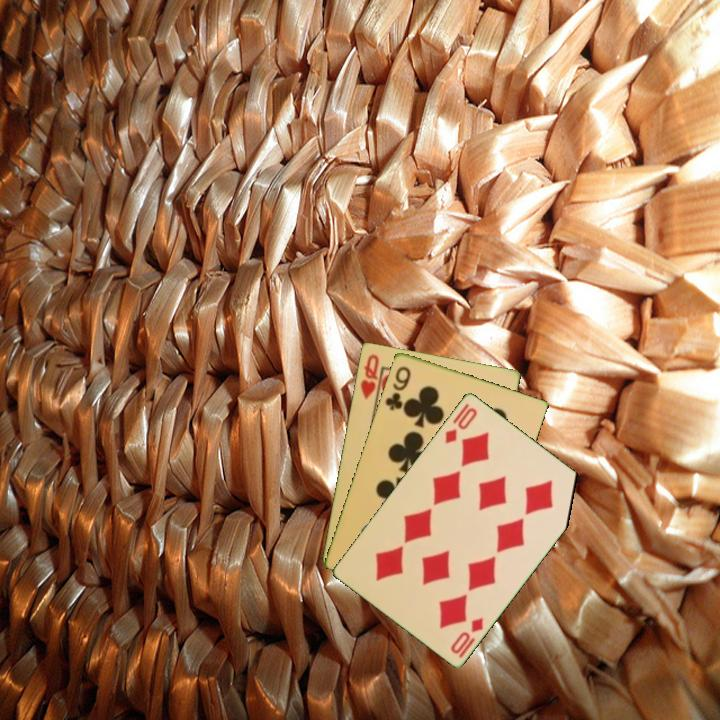10d: (447, 613, 486, 661), (441, 400, 480, 446)
9c: (381, 362, 414, 413)
Qh: (357, 351, 382, 401)
